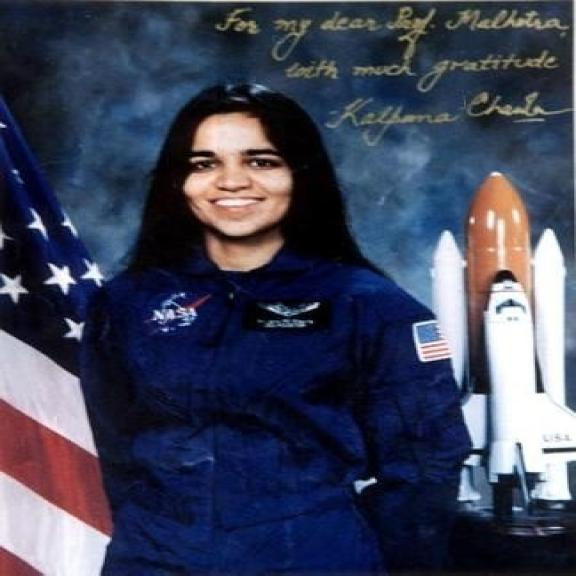face: (152, 91, 312, 246)
